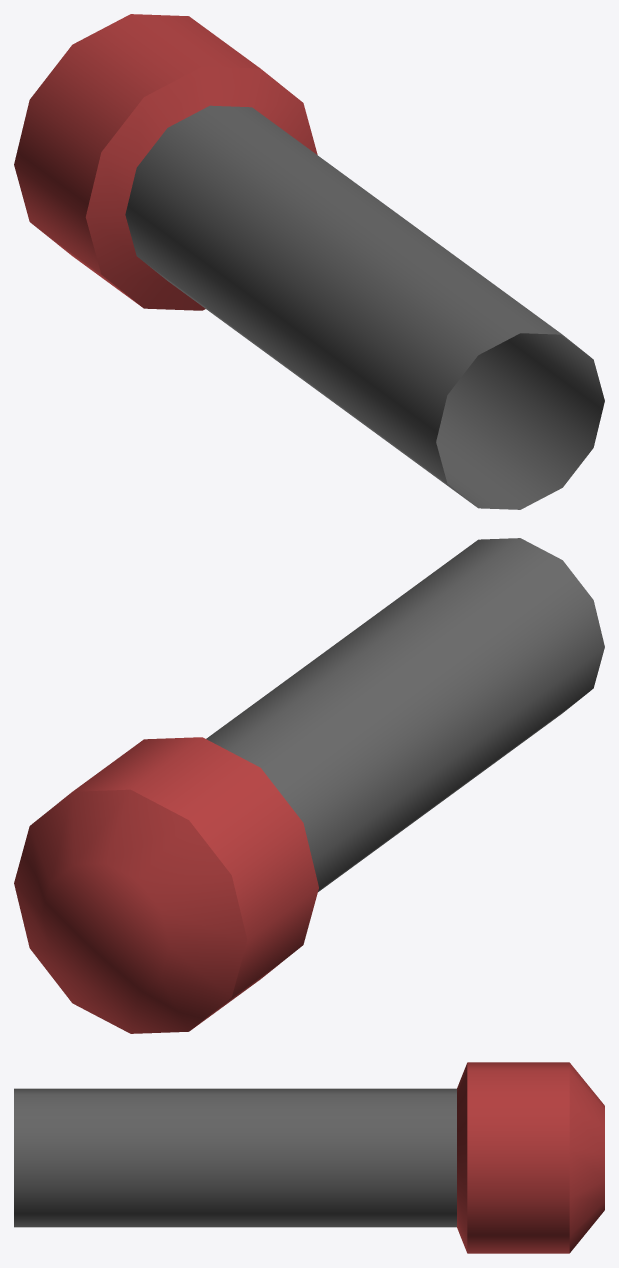
File: Puncher.glb
3 views of the same model, one above another, from view 1: azimuth 30°, elevation 25°; view 2: azimuth 150°, elevation 25°; view 3: azimuth 270°, elevation 25° (orthographic). The views are drawn at different scales.
Visible parts, largest first — view 1: PuncherStick.001; view 2: PuncherStick.001; view 3: PuncherStick.001.
Boxes of the visible parts, <box> form: PuncherStick.001: <box>14,14,604,509</box>; PuncherStick.001: <box>14,538,604,1033</box>; PuncherStick.001: <box>14,1062,604,1253</box>.
Size of the model in its own units: 0.0273 by 0.0273 by 0.084.
Materials: 1 (1 with a texture image).
